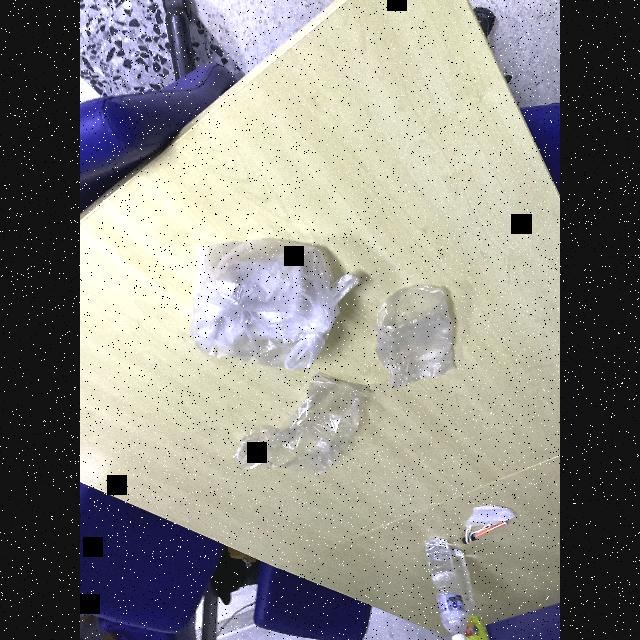plastic_bag: (192, 235, 344, 368), (230, 375, 372, 481), (378, 287, 459, 387)
plastic_bottle: (418, 534, 484, 640)
scrap_plastic: (460, 500, 512, 540)
